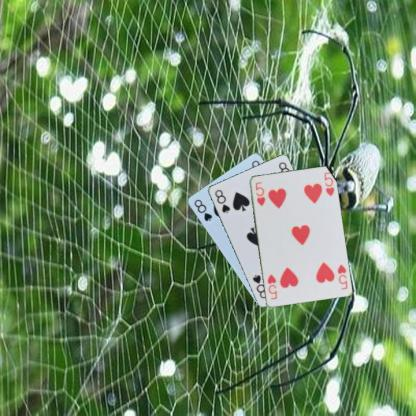5h: (334, 262, 349, 290), (252, 179, 266, 207)
8s: (191, 197, 213, 223), (212, 187, 231, 214)
